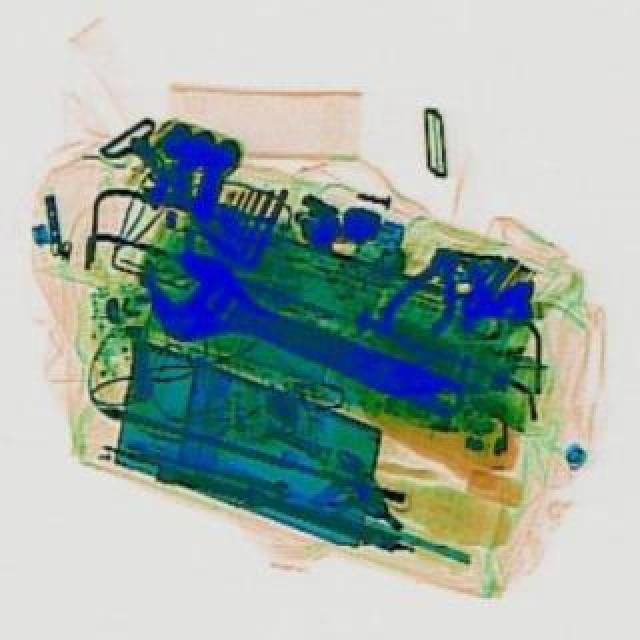scissors: (124, 234, 480, 444)
wrench: (372, 230, 482, 348)
